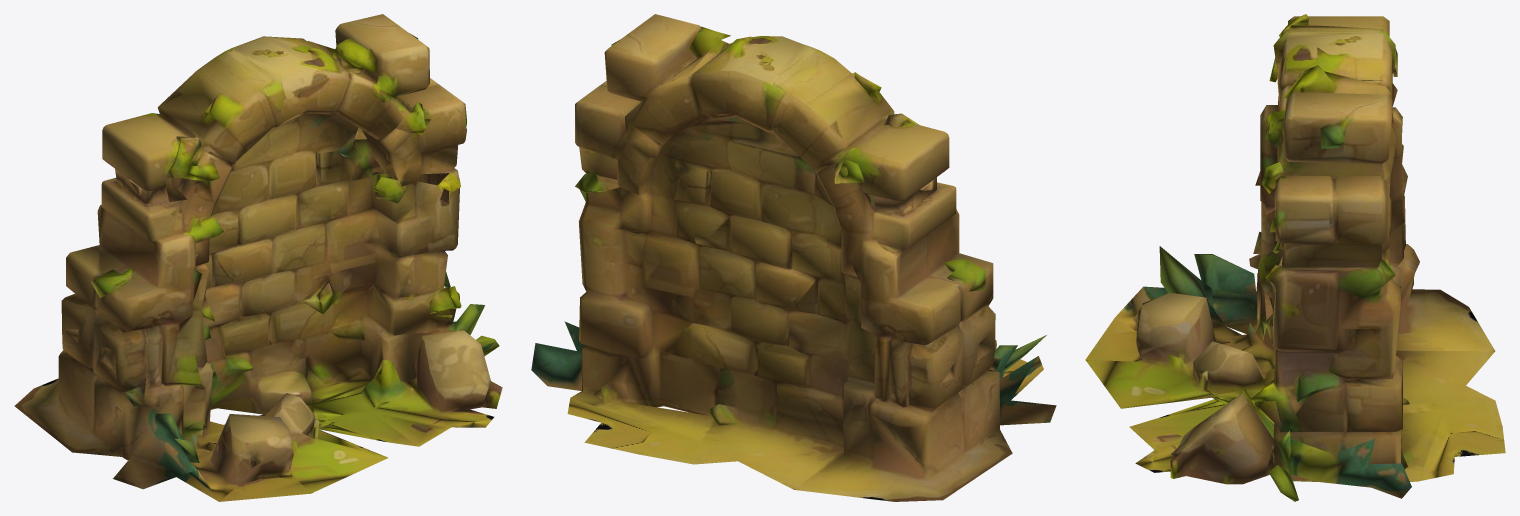
The picture shows the model from 3 angles, left to right: view 1: azimuth 30°, elevation 25°; view 2: azimuth 150°, elevation 25°; view 3: azimuth 270°, elevation 25°; orthographic projection. The views are drawn at different scales.
Visible parts, largest first — view 1: tripo_node_7b7199aa-a5a2-40b0-8732-55f05418f254; view 2: tripo_node_7b7199aa-a5a2-40b0-8732-55f05418f254; view 3: tripo_node_7b7199aa-a5a2-40b0-8732-55f05418f254.
Boxes of the visible parts, x1,y1,x2,y2 form: tripo_node_7b7199aa-a5a2-40b0-8732-55f05418f254: [14, 14, 502, 501]; tripo_node_7b7199aa-a5a2-40b0-8732-55f05418f254: [531, 14, 1056, 501]; tripo_node_7b7199aa-a5a2-40b0-8732-55f05418f254: [1085, 14, 1505, 501].
Size of the model in its own units: 1 by 0.7886 by 0.8082.
Materials: 1 (1 with a texture image).
